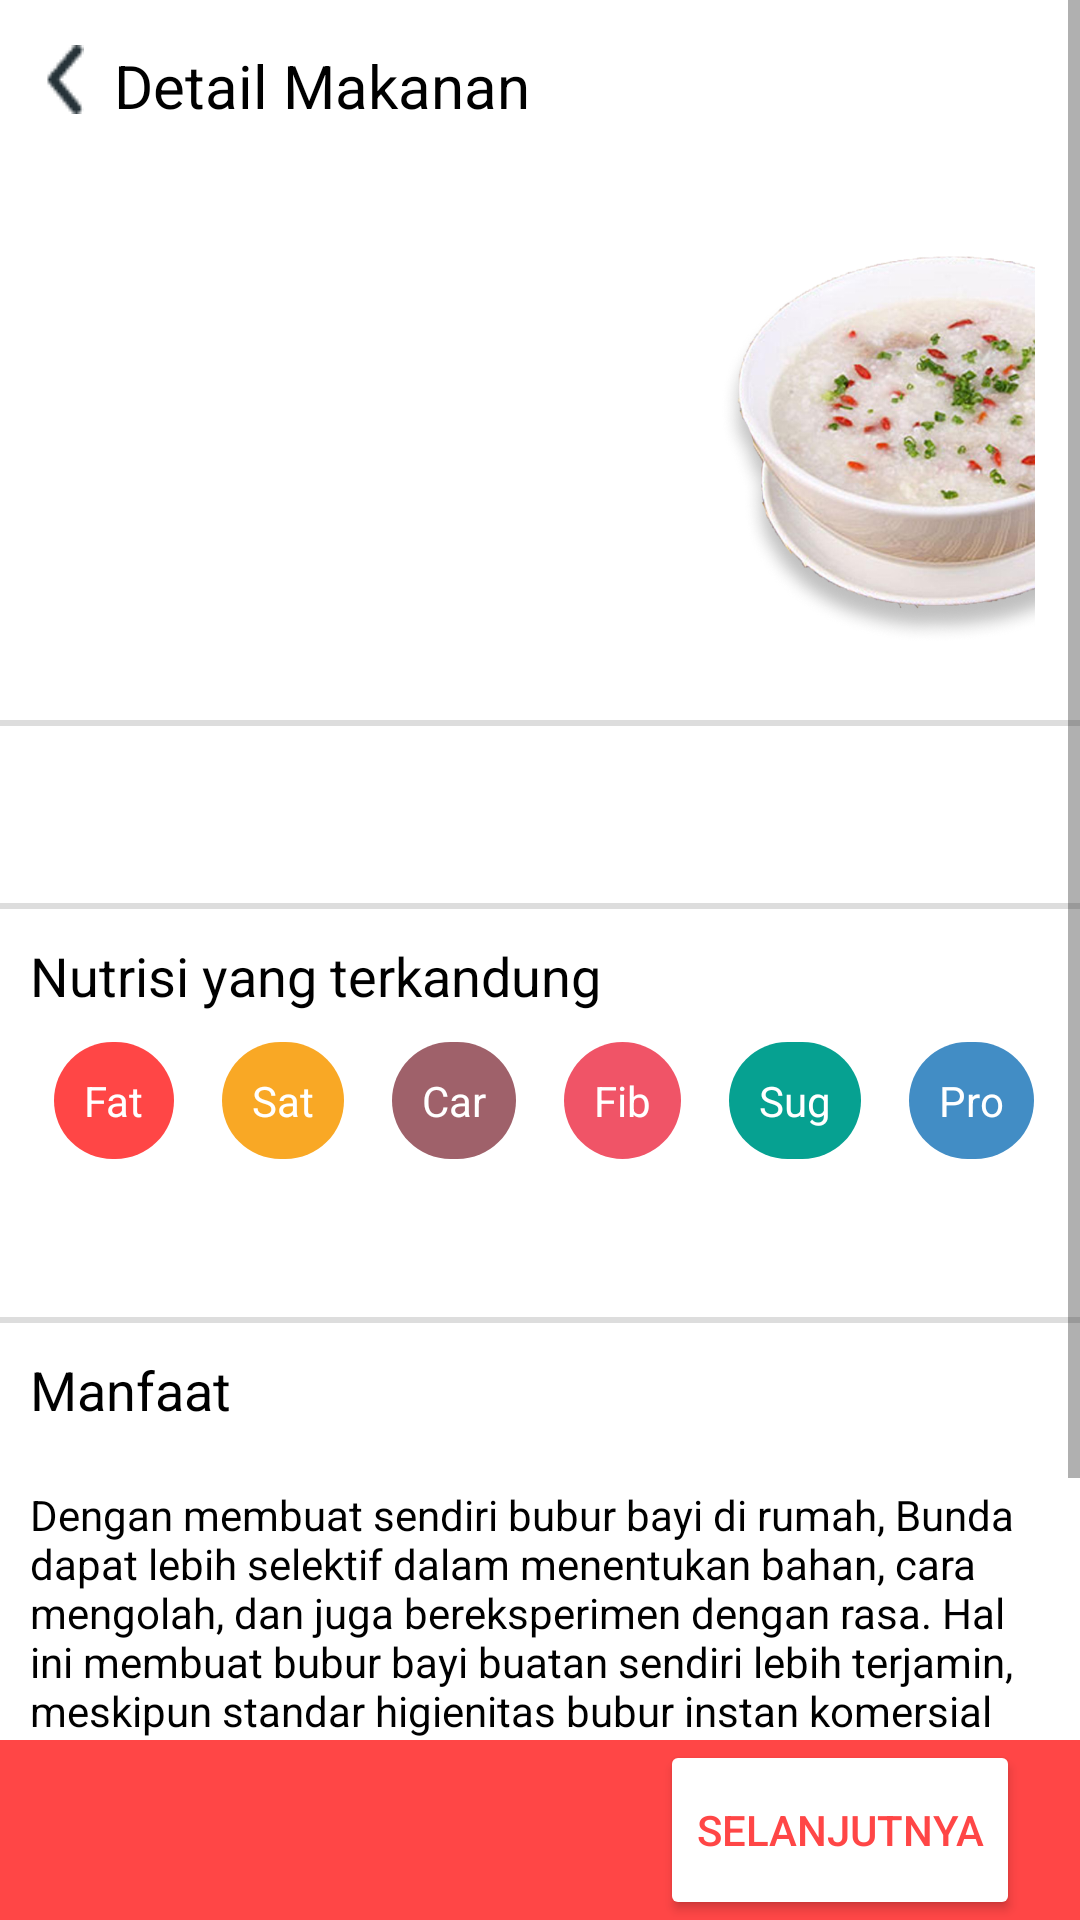

Point at icon controls on the screen. Image size 1080x1920, points as [x,y].
back: [65,79]
